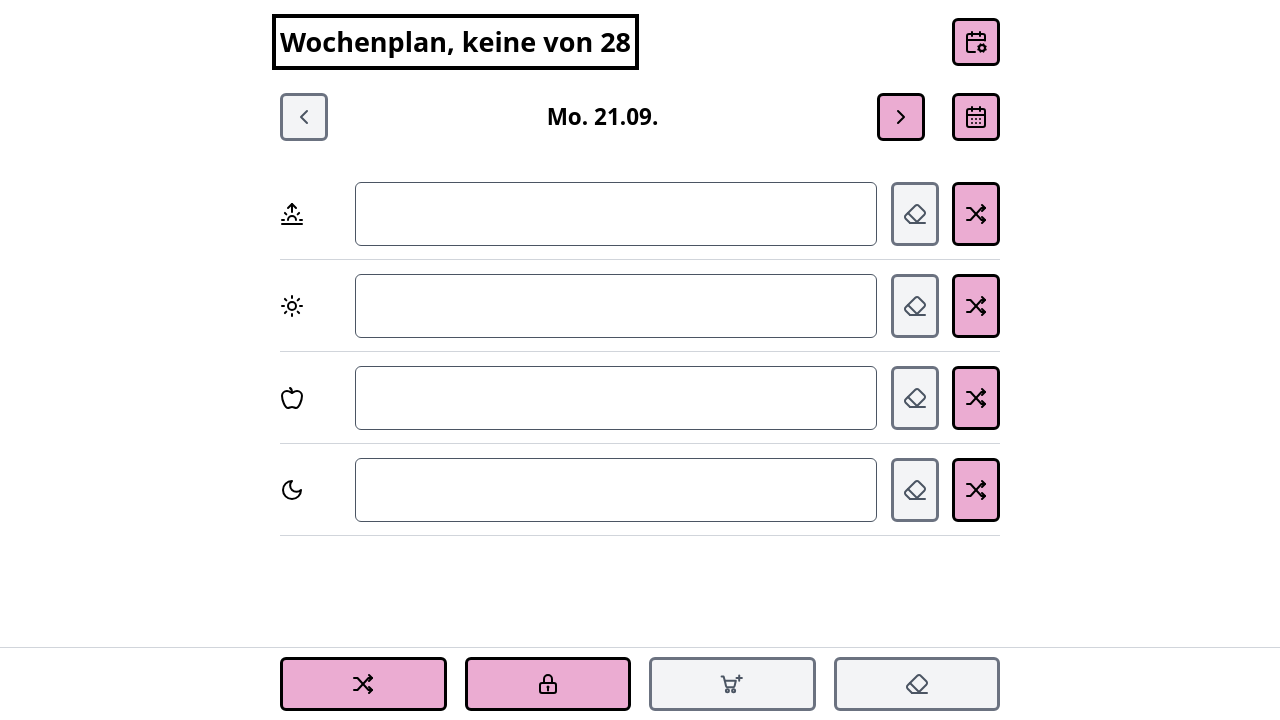
Test: WeekPlanArea › rolls a meal for one meal time and says which one it is
The width and height of the screenshot is (1280, 720).
Click the button named "Zufallsgericht für Frühstück".
click(976, 214)  # box [952,182,1000,246]
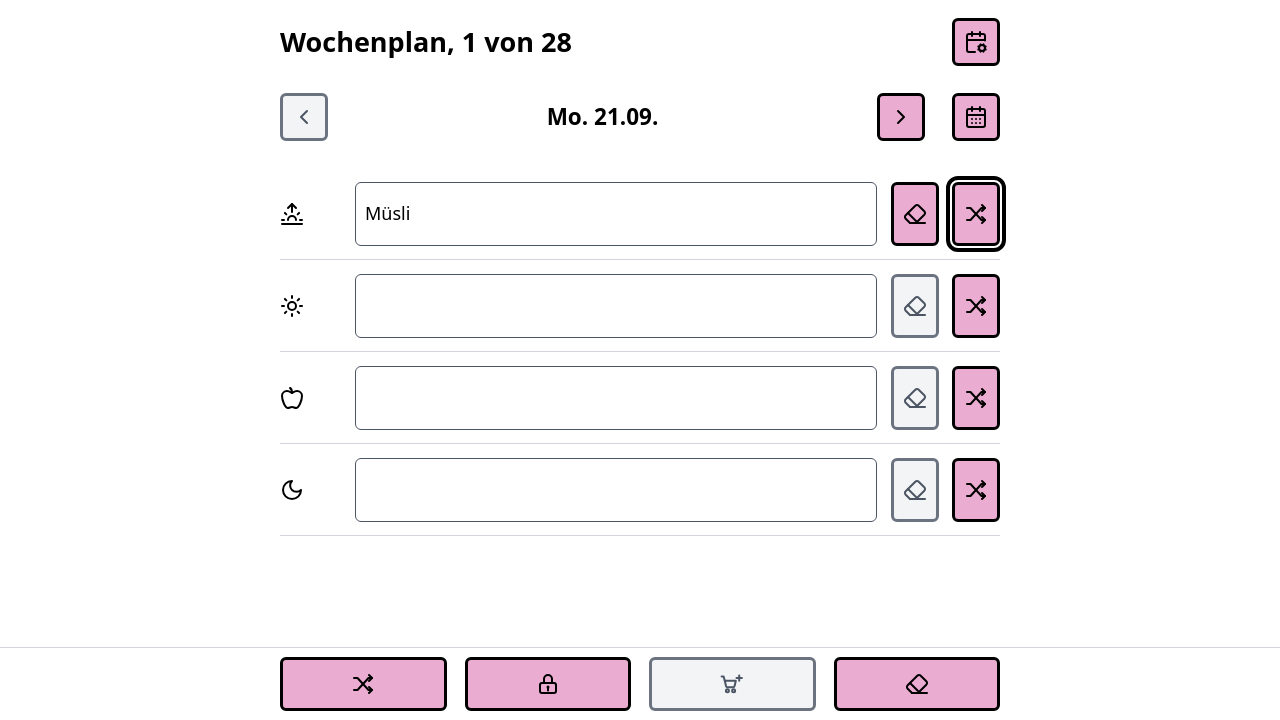
Now the field named "Frühstück" holds "Müsli", box [355,182,877,246]
